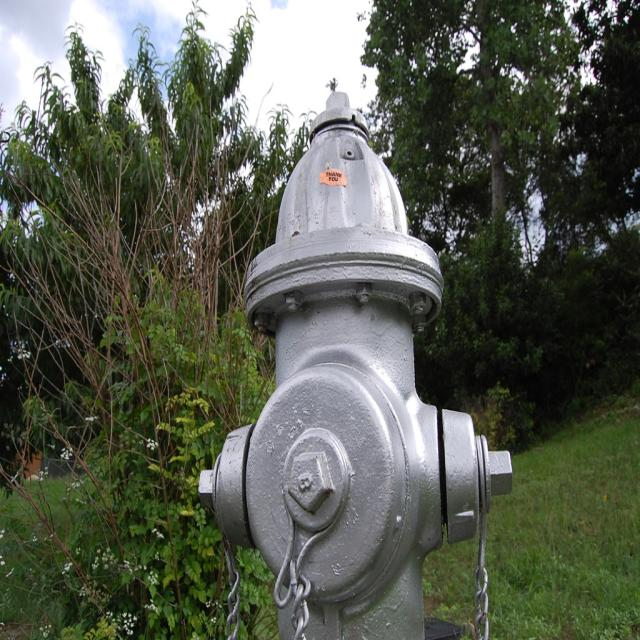fire_hydrant: (195, 91, 512, 640)
